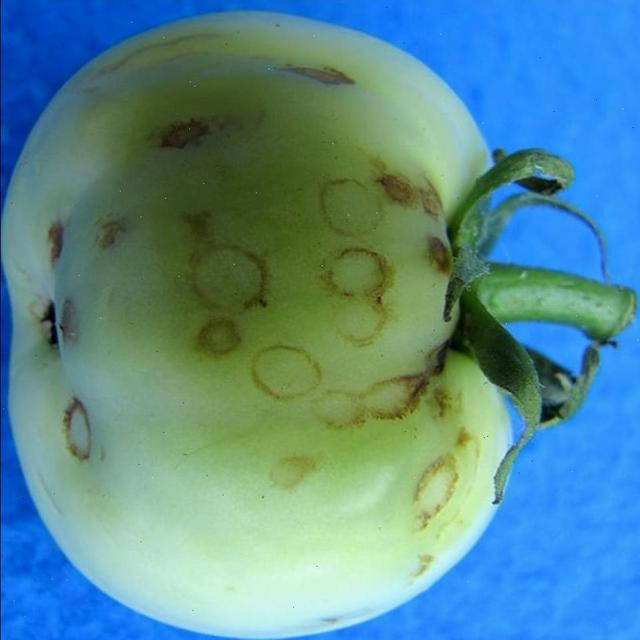Spotted wilt Virus Fruit: (0, 75, 3, 285)
